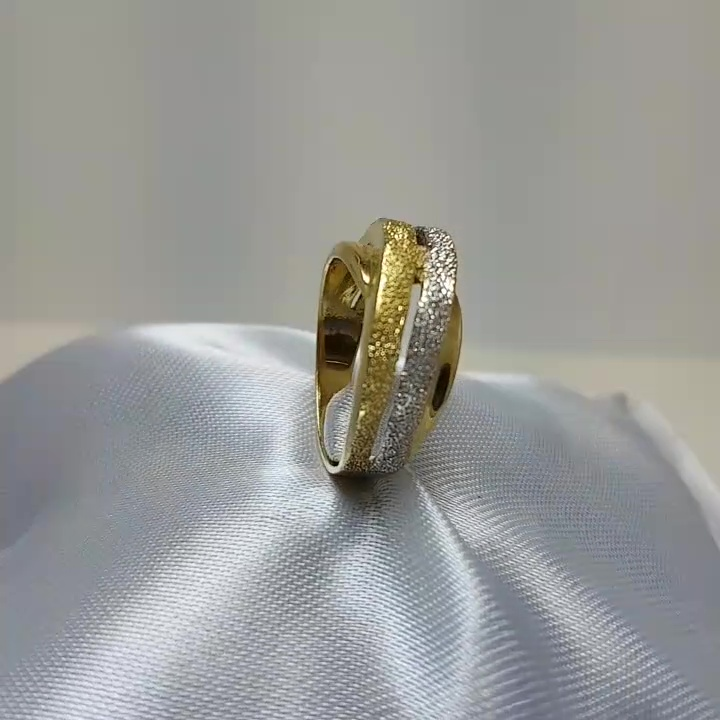Ring 5: (282, 200, 495, 514)
